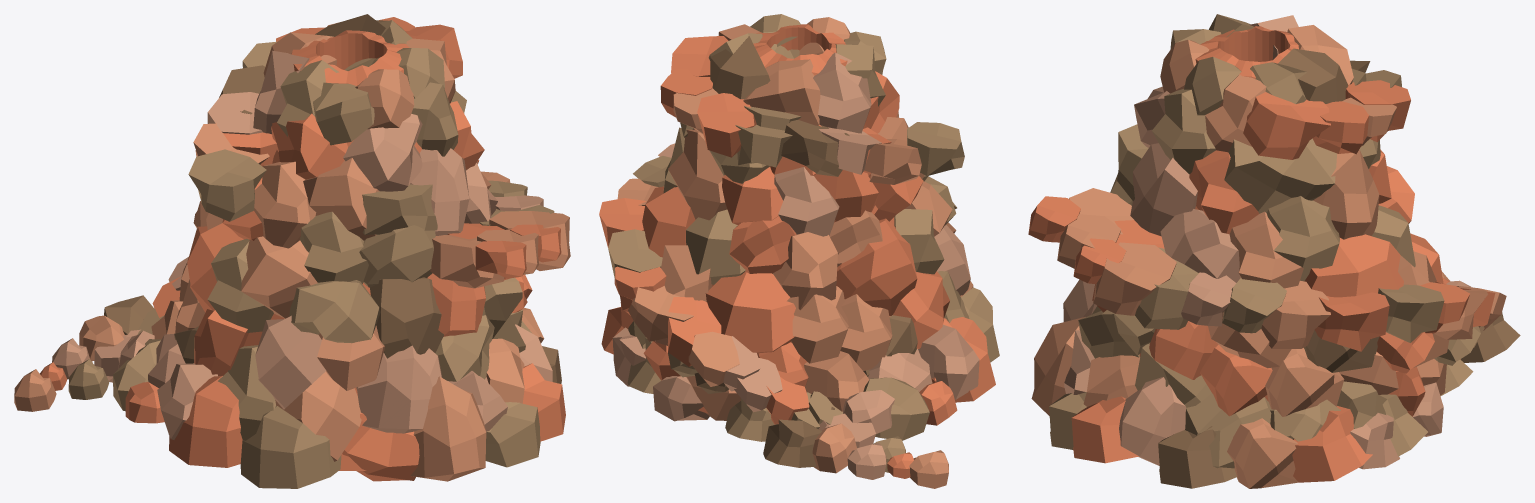
File: mountain.fbx
3 renders of one model, left to right at view 1: azimuth 30°, elevation 25°; view 2: azimuth 150°, elevation 25°; view 3: azimuth 270°, elevation 25°, orthographic. The views are drawn at different scales.
Visible parts, largest first — view 1: Plane; view 2: Plane; view 3: Plane.
Boxes of the visible parts, x1,y1,x2,y2 form: Plane: (14, 14, 570, 488); Plane: (599, 14, 999, 488); Plane: (1028, 14, 1520, 488).
Bounding box in the file's own units: 15070 × 12640 × 14497.
